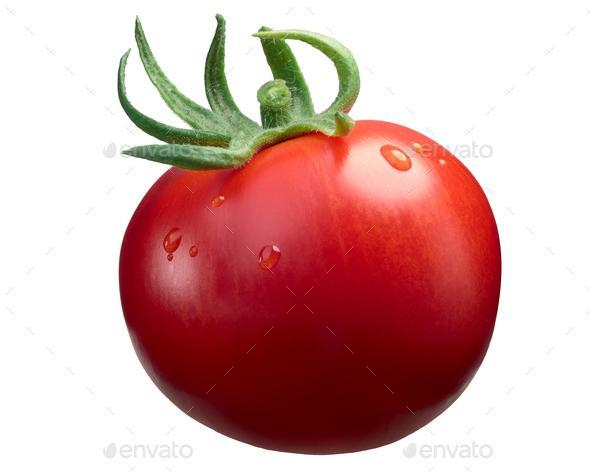healthy-tomato: (118, 16, 505, 456)
